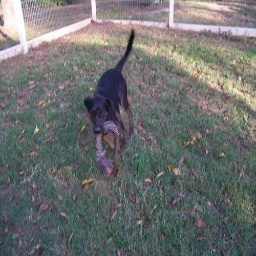dog: (84, 48, 134, 163)
